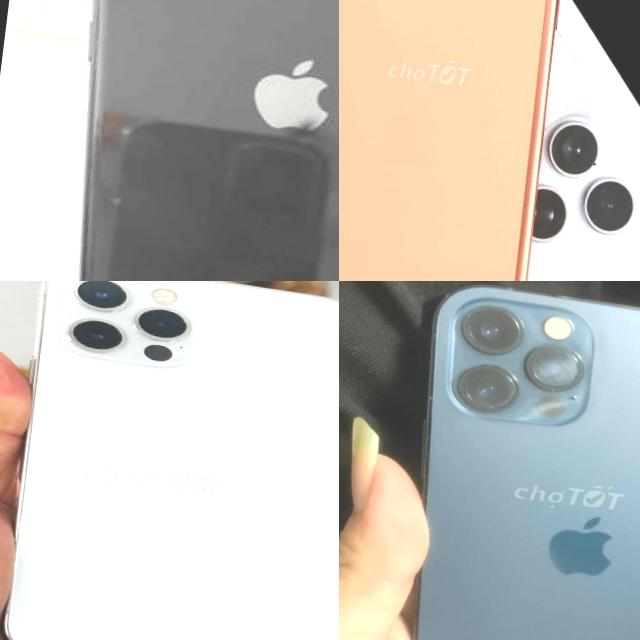scratch: (278, 111, 326, 139), (95, 185, 126, 212), (111, 122, 135, 143)
